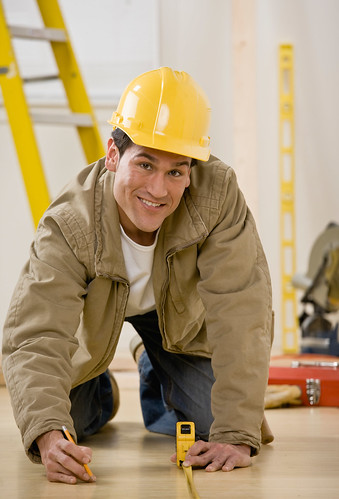person hardhat: (4, 65, 288, 483)
